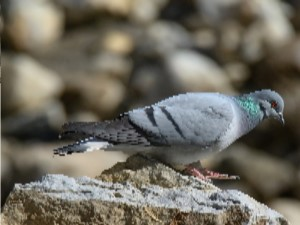pigeon: (51, 87, 289, 184)
